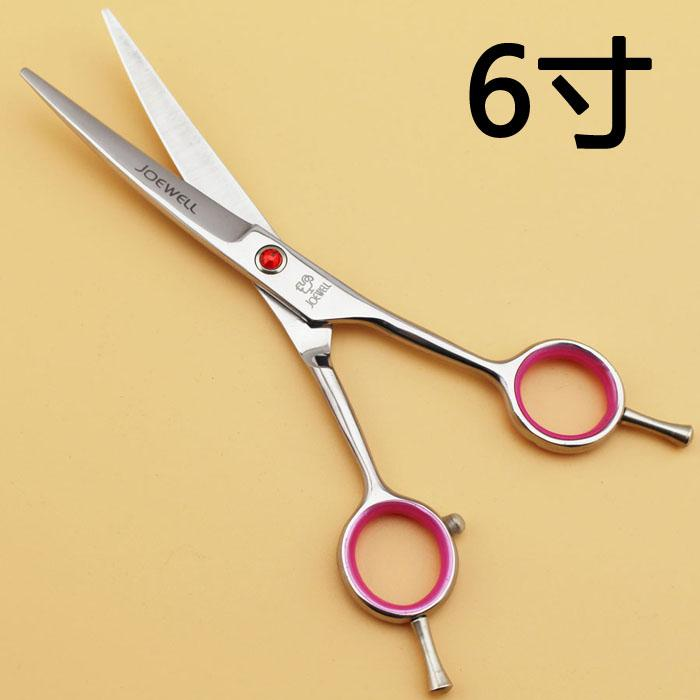scissor: (28, 25, 700, 648)
